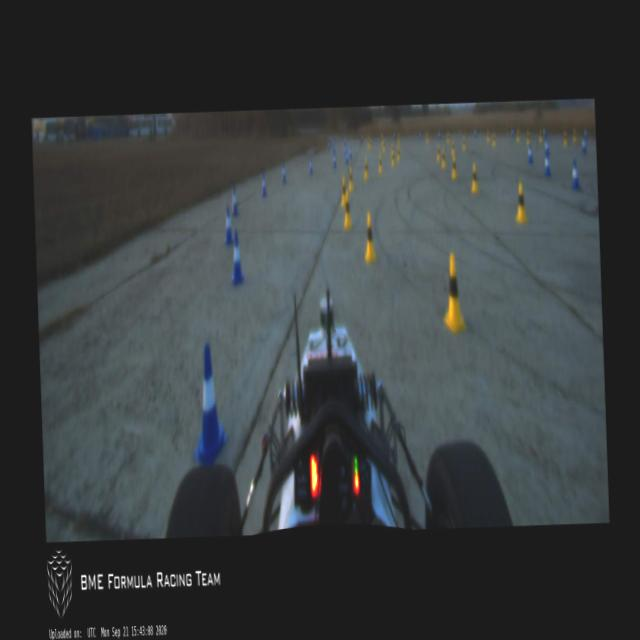blue_cone: (189, 342, 228, 467), (230, 230, 245, 287), (223, 205, 233, 246), (570, 159, 580, 191), (543, 150, 551, 178), (231, 187, 238, 216), (527, 146, 533, 164), (262, 174, 266, 196), (332, 153, 337, 169), (282, 165, 286, 182), (309, 159, 312, 175)
yellow_cone: (440, 250, 467, 336), (362, 211, 376, 264), (514, 181, 527, 224), (342, 192, 352, 230), (469, 162, 478, 195), (339, 175, 345, 208), (451, 156, 457, 180), (363, 157, 369, 180), (440, 147, 446, 169), (348, 166, 353, 192), (390, 148, 395, 167), (435, 144, 440, 162), (378, 153, 382, 174), (396, 144, 400, 162)
